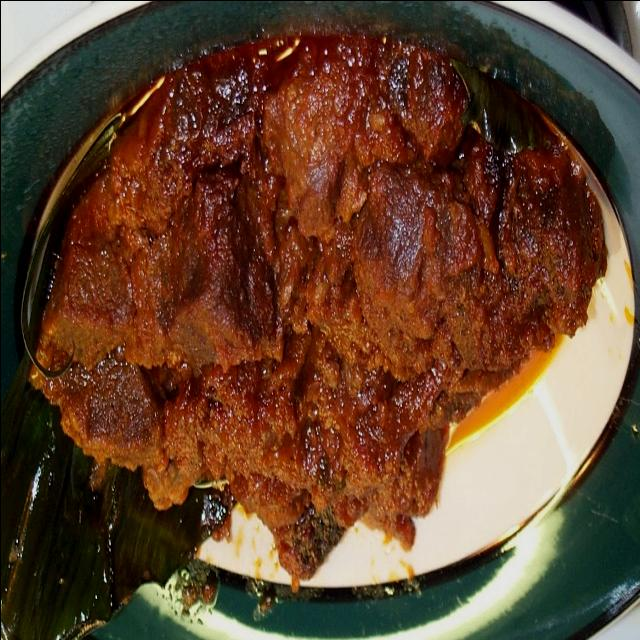rendang: (32, 30, 606, 576)
